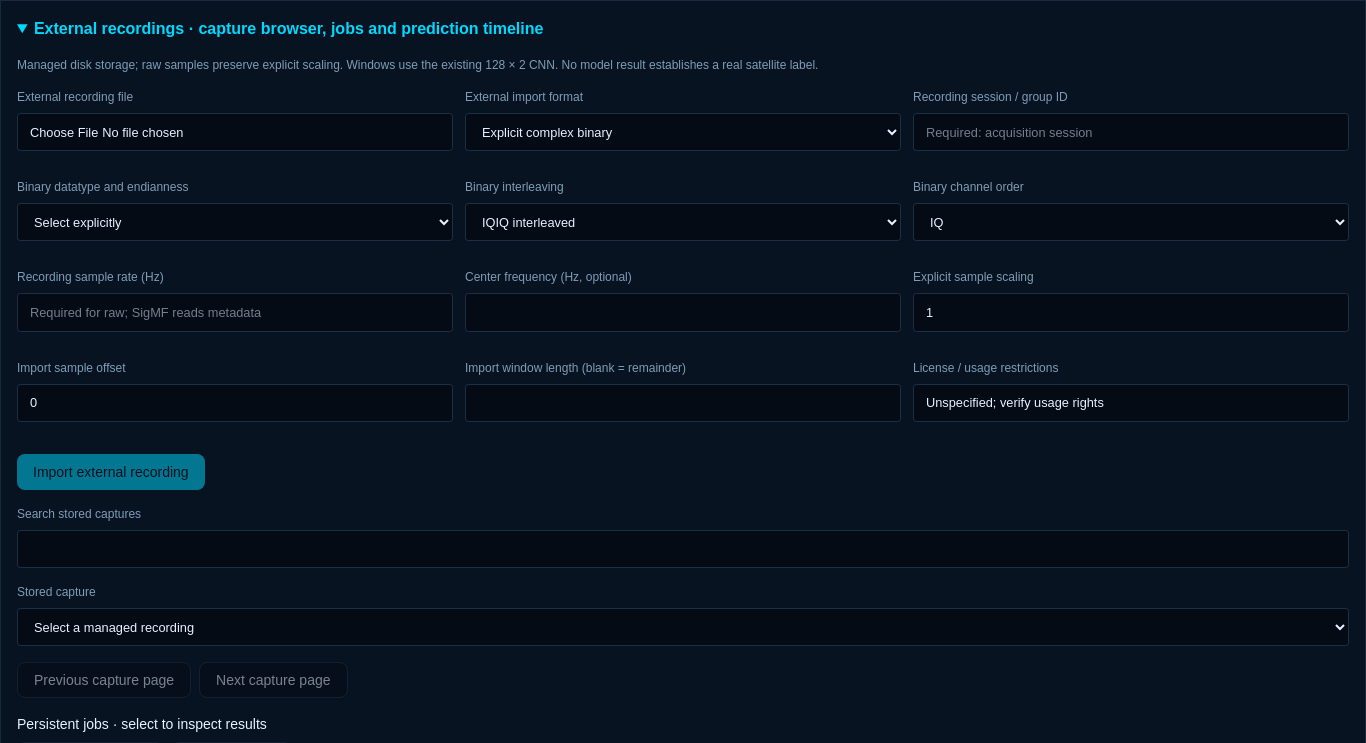
Test: Phase2 operational controls › requires explicit binary encoding, clock and session before import
This screenshot has width=1366, height=743.
Earlier steps of the test are not shown.
Check: the button "Import external recording" is disabled, box [17,454,205,490]
Select "cf32_le" in the dropdown labelled "Binary datatype and endianness" at (235, 222), box [17,203,453,241]
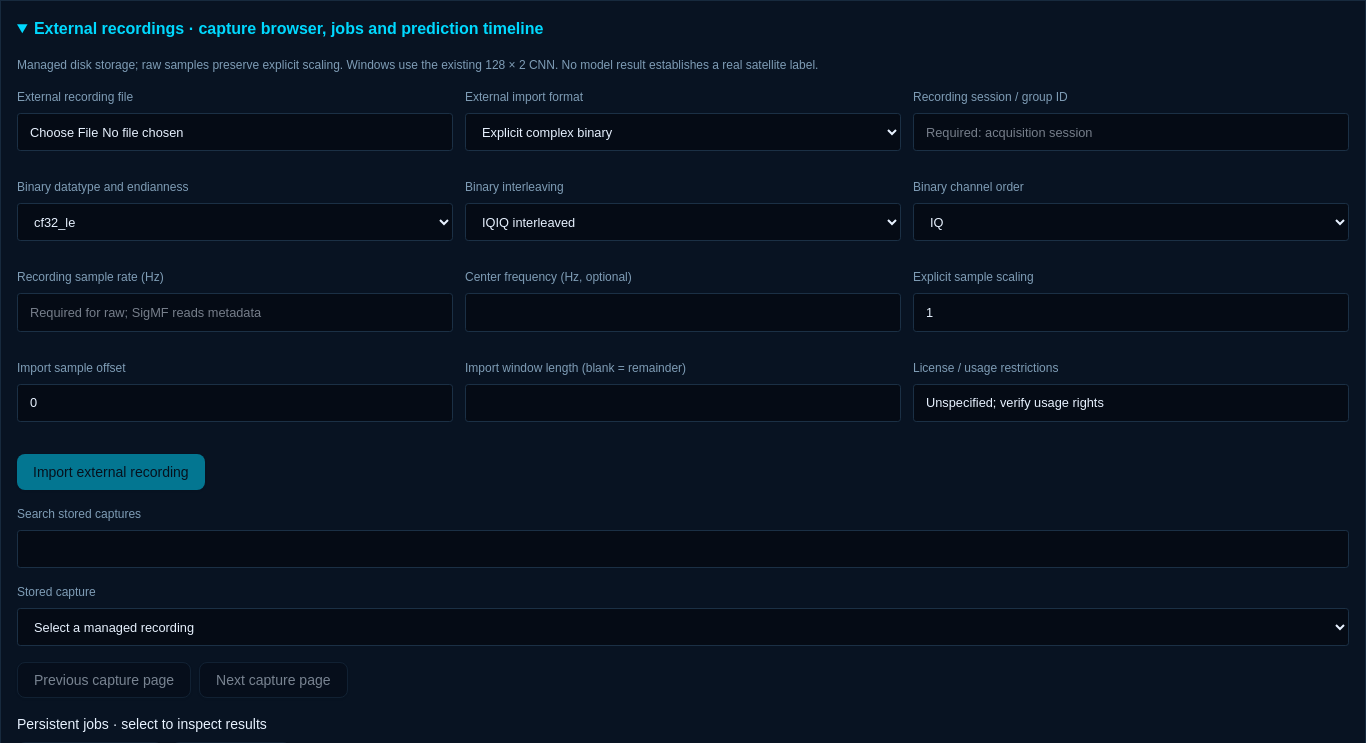
Type "8000" into the number field labelled "Recording sample rate (Hz)" at (235, 312), box [17,293,453,332]
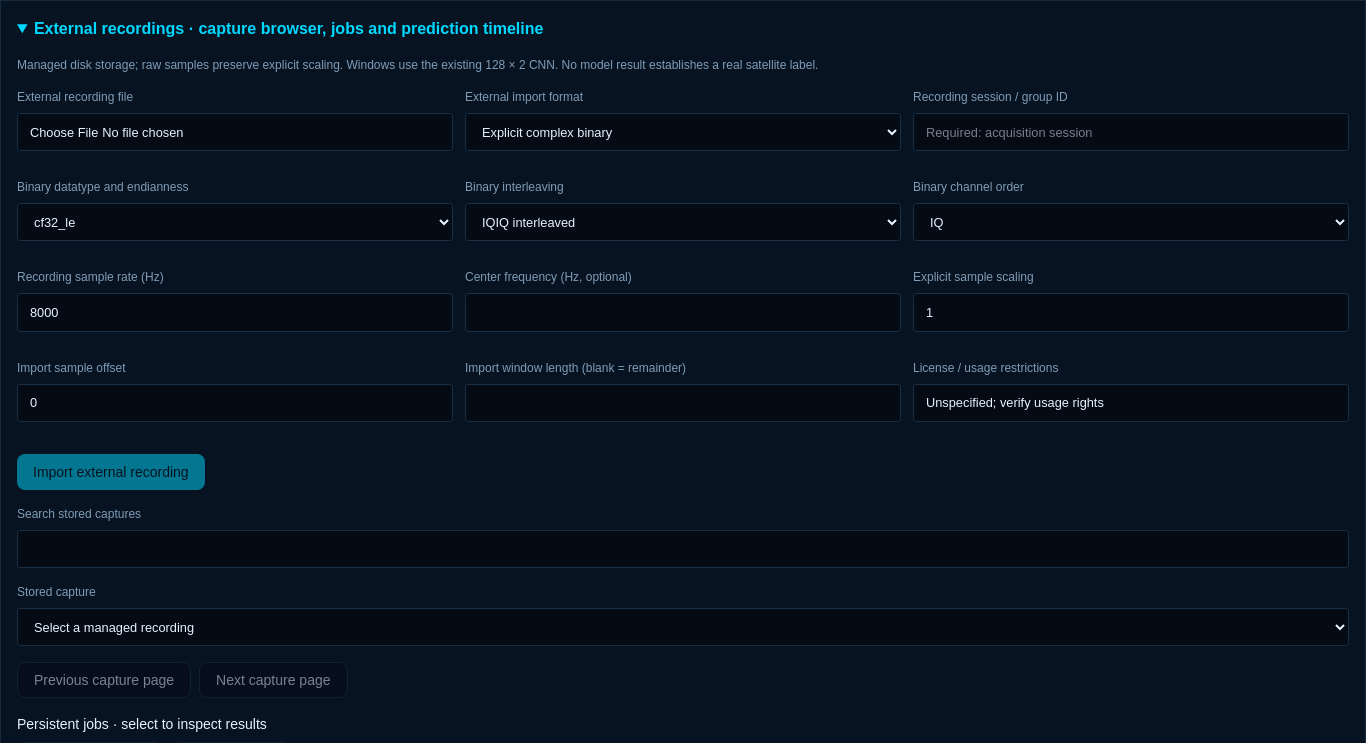
Type "session-A" into the field labelled "Recording session / group ID" at (1131, 132), box [913,113,1349,151]
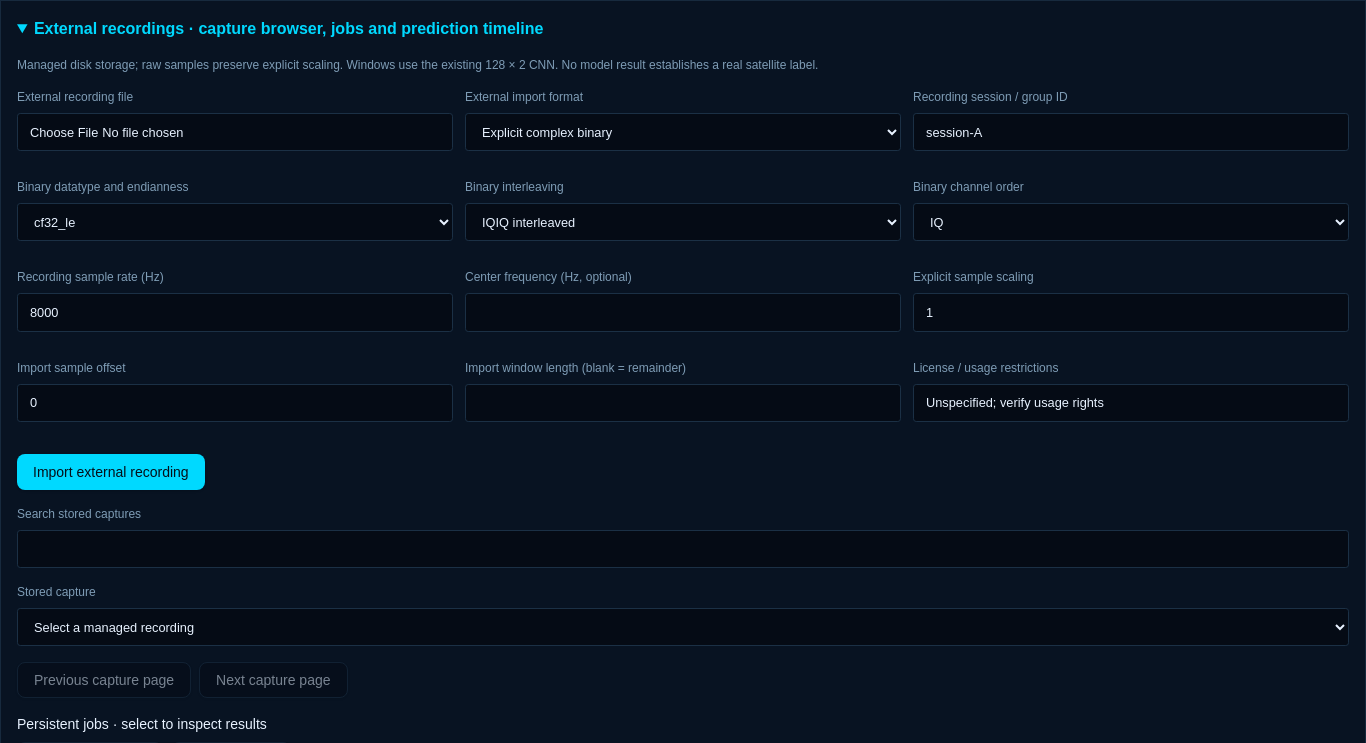
Check: the button "Import external recording" is enabled, box [17,454,205,490]
